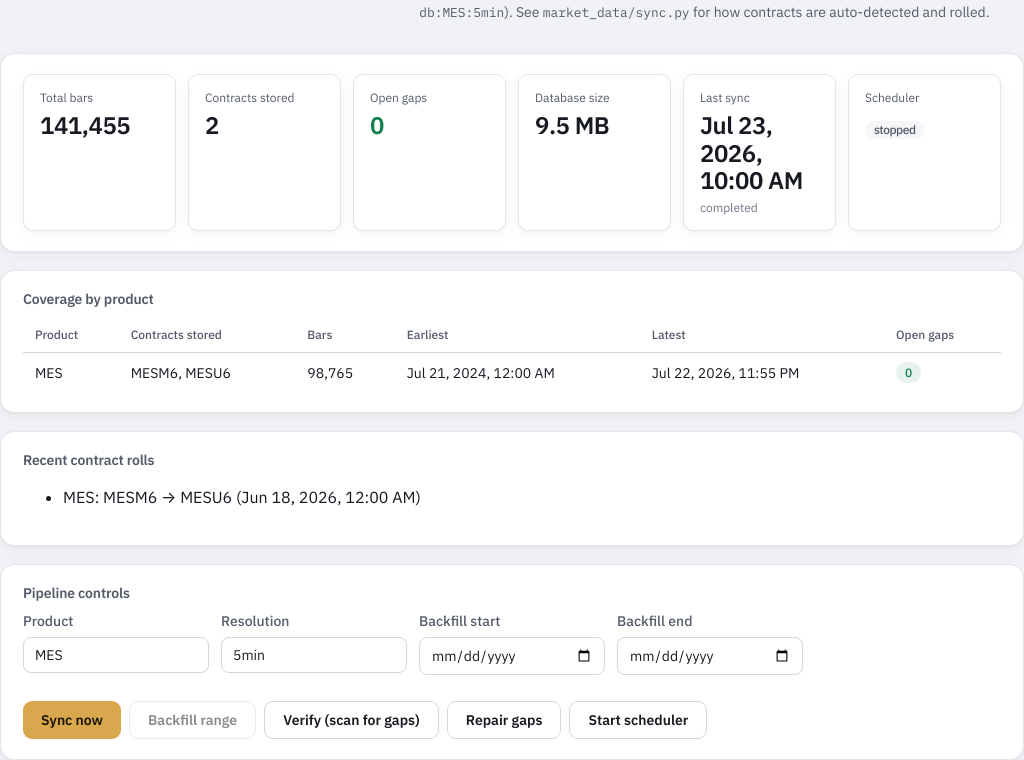
Test: MarketData › starts the scheduler
(page scrolled)
Click the button "Start scheduler".
click(638, 720)  # box [569, 701, 707, 739]
(page scrolled)
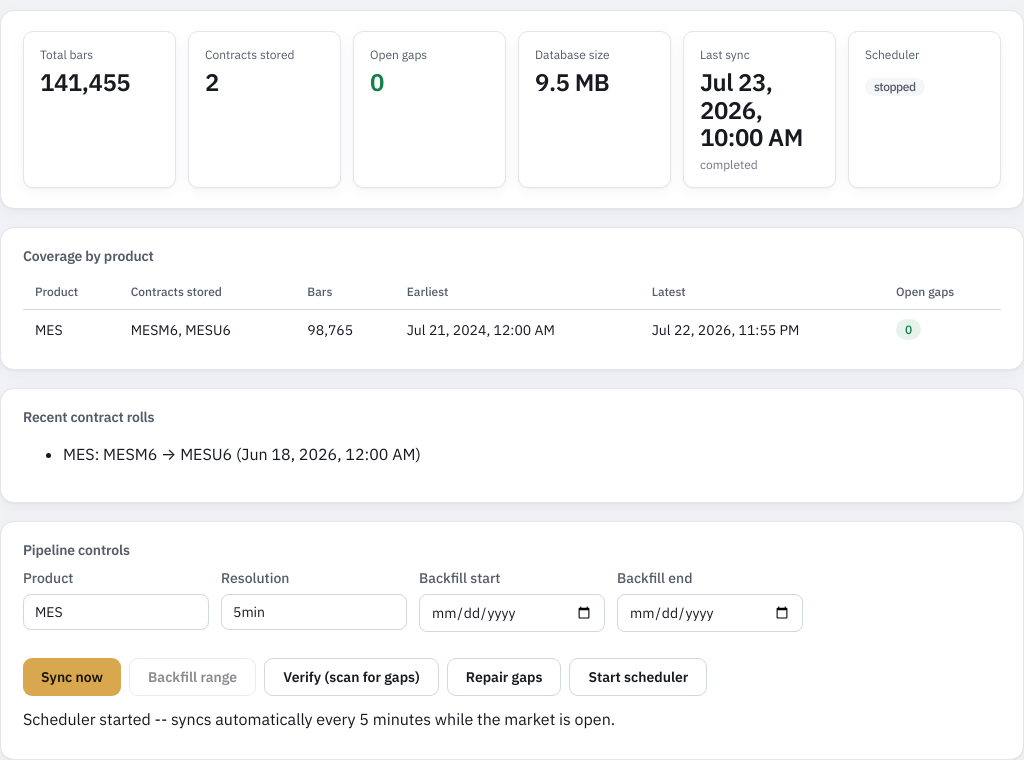
Check: the text "Scheduler started" is shown, box [23, 709, 615, 729]
